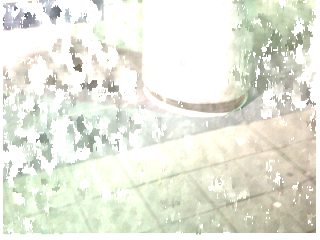Obstacle: (140, 2, 256, 111)
